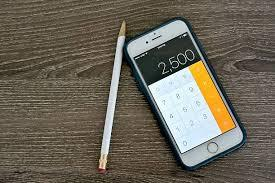Calculator: (142, 45, 236, 150)
